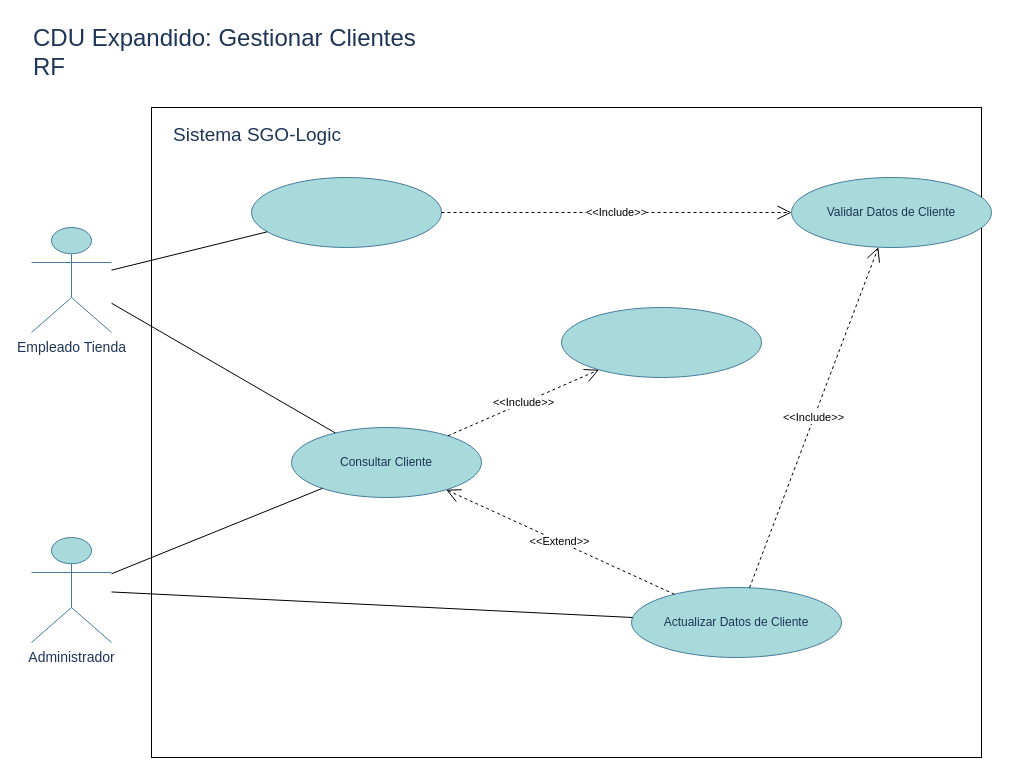
The diagram is 1009 pixels wide and 775 high, and some of its shapes have lost their labels. Each missing label, with the box of its shape:
Mostrar Datos de Cliente: (560, 306, 762, 378)
Registrar Cliente: (250, 176, 442, 248)
